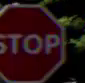Stop: (1, 3, 68, 78)
